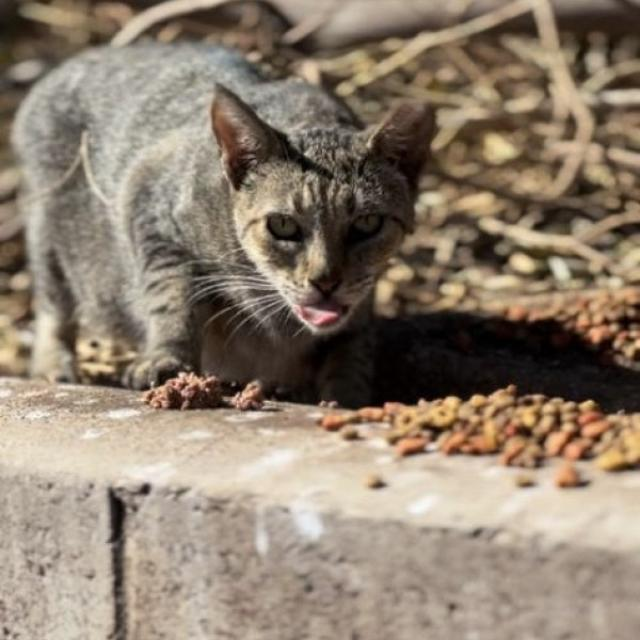cat: (11, 42, 435, 402)
